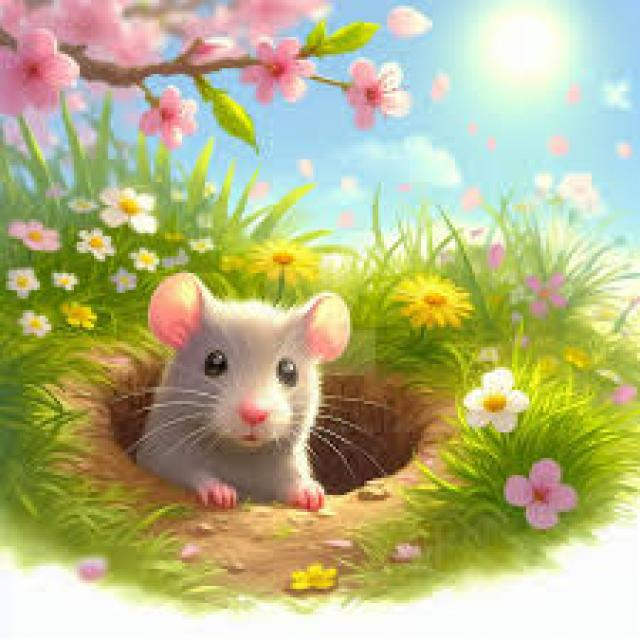rat: (105, 270, 381, 509)
